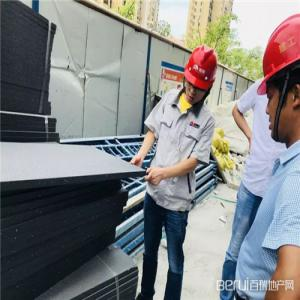red: (259, 14, 300, 146), (184, 44, 219, 106)
